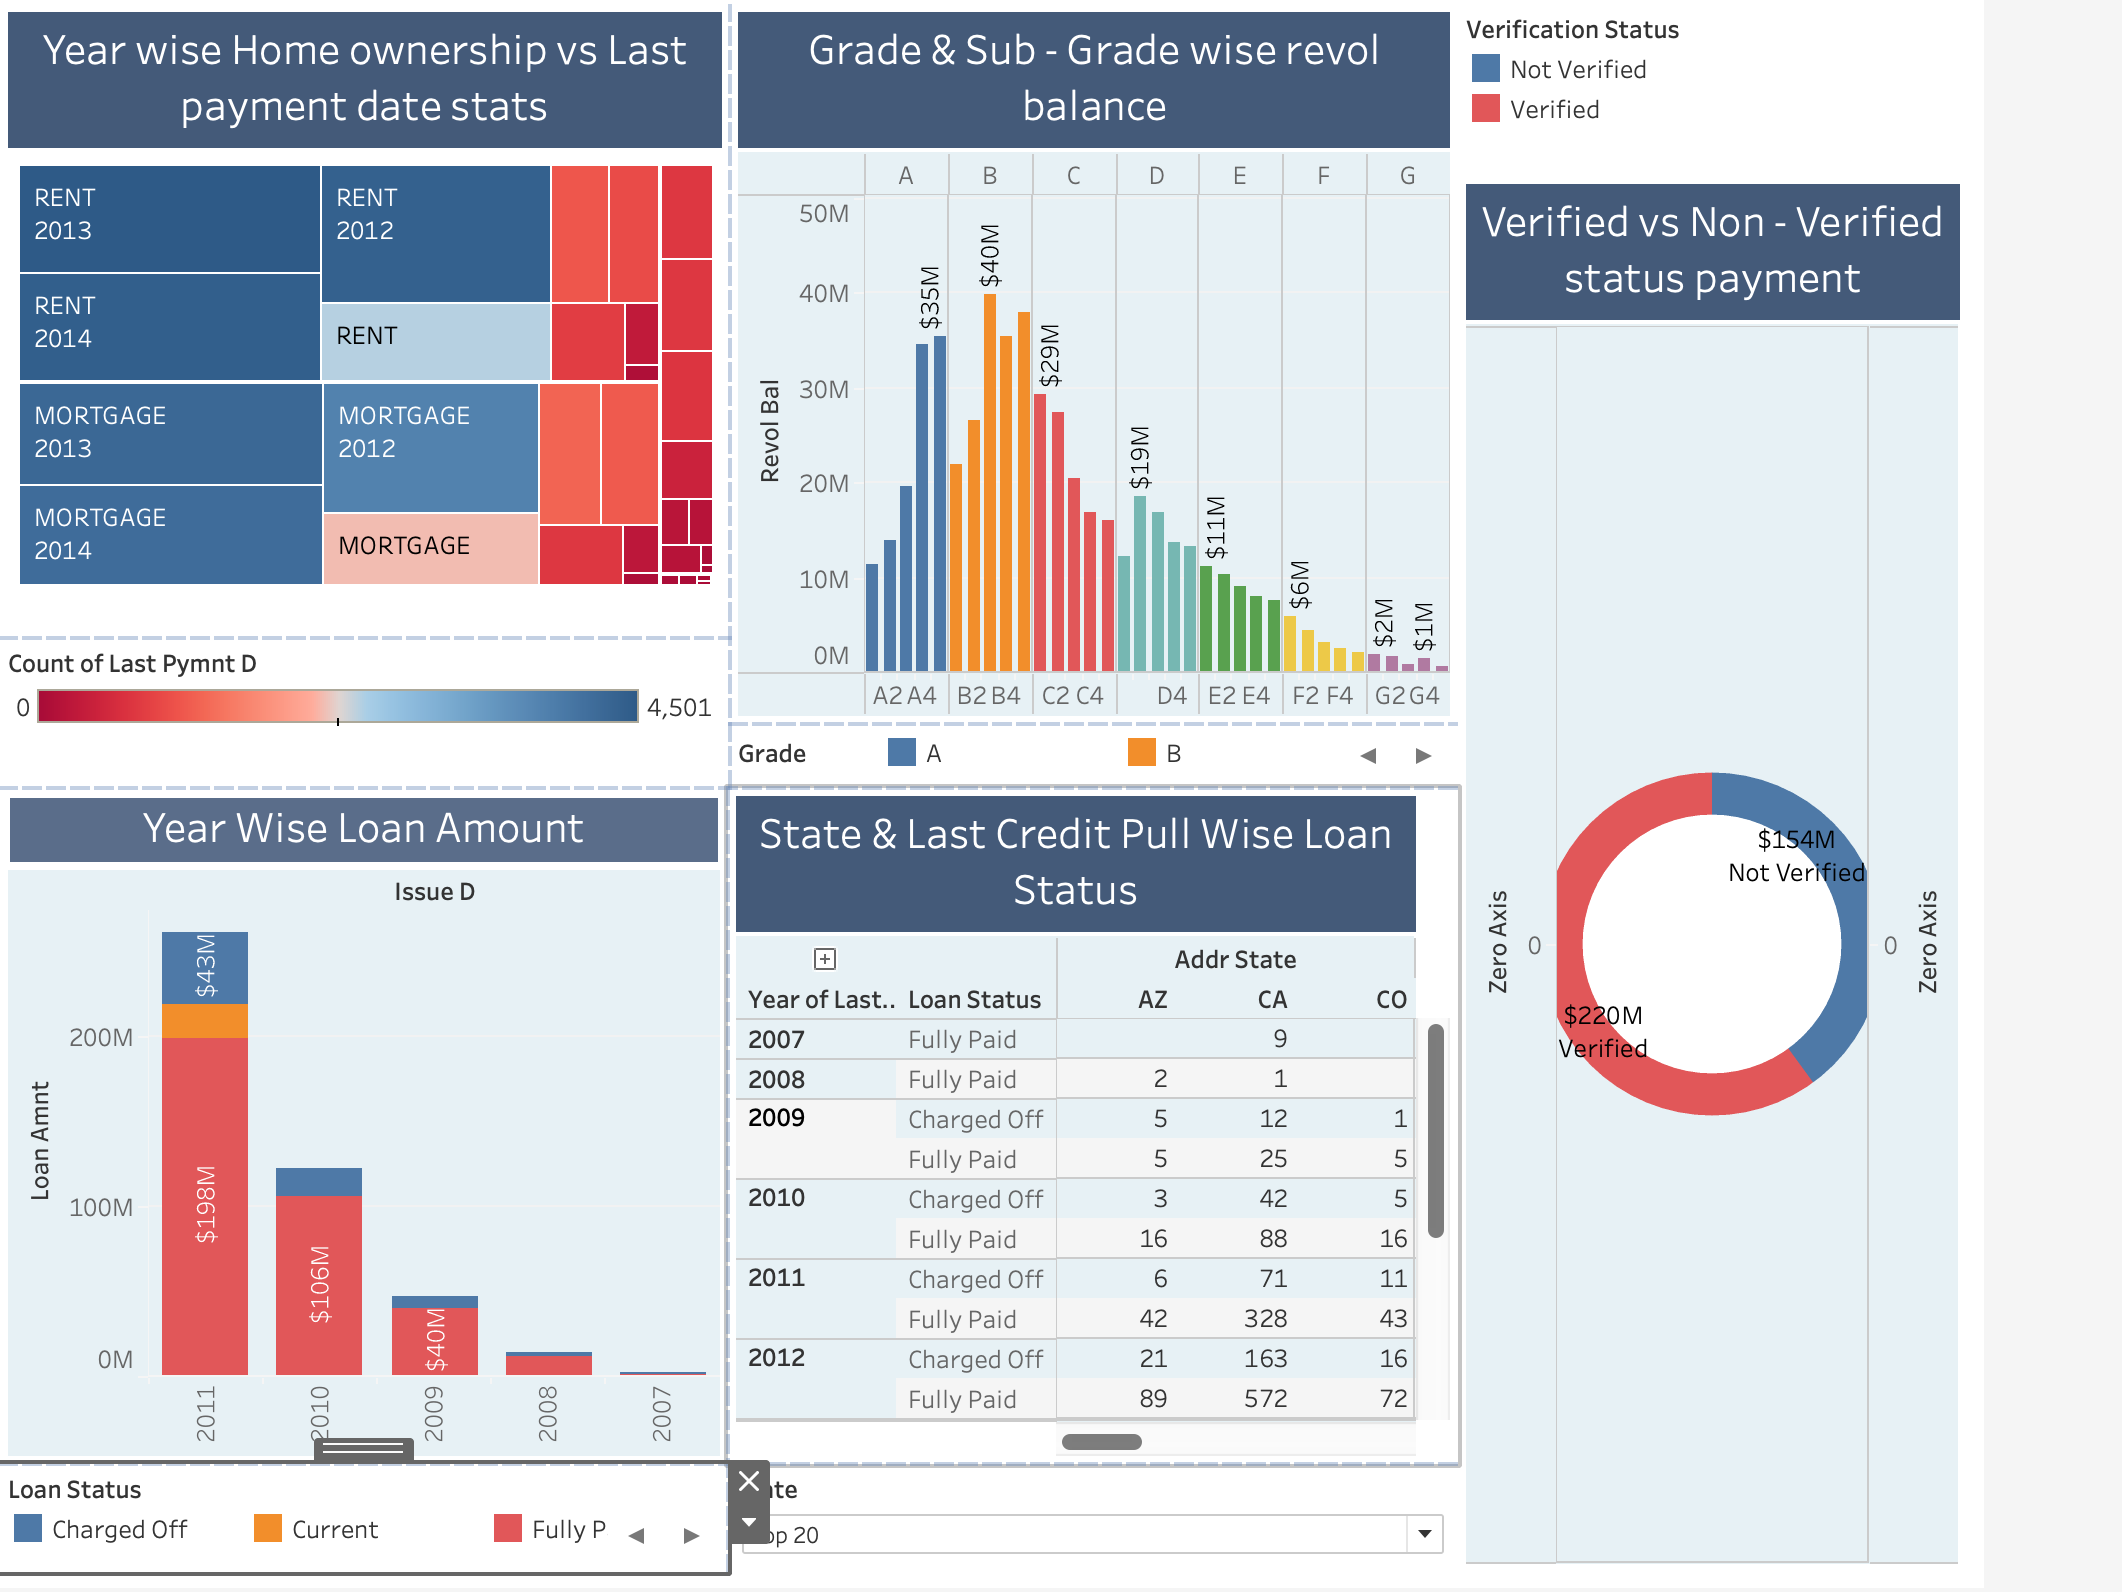

What the dashboard file says about the page in this screenshot:
{"tool":"tableau","page":{"name":"Dashboard 1","canvas":[1000,800],"ordinal":0},"visuals":[{"type":"worksheet","title":"KPI 5","mark":"Automatic","box":[8,8,364.5,317]},{"type":"worksheet","title":"KPI2","mark":"Automatic","rows":["revol_bal"],"cols":["grade","sub_grade"],"box":[372.5,8,364.5,360]},{"type":"legend","title":"KPI 3","param":"[federated.14shoip1ithi0l10mdrnj04ey6f8].[none:verification_status:nk]","box":[737,8,255,86]},{"type":"worksheet","title":"KPI 3","mark":"Pie","rows":["Calculation_6914643963906117635","Calculation_6914643963906117635"],"box":[737,94,255,698]},{"type":"legend","title":"KPI 5","param":"[federated.14shoip1ithi0l10mdrnj04ey6f8].[cnt:last_pymnt_d:qk]","box":[8,325,364.5,75]},{"type":"legend","title":"KPI2","param":"[federated.14shoip1ithi0l10mdrnj04ey6f8].[none:grade:nk]","box":[372.5,368,364.5,32]},{"type":"worksheet","title":"KPI1","mark":"Bar","rows":["loan_amnt"],"cols":["issue_d"],"box":[8,400,364.5,338]},{"type":"worksheet","title":"KPI 4","mark":"Automatic","rows":["last_credit_pull_d","loan_status"],"cols":["addr_state"],"box":[372.5,400,364.5,338]},{"type":"legend","title":"KPI1","param":"[federated.14shoip1ithi0l10mdrnj04ey6f8].[none:loan_status:nk]","box":[8,738,364.5,54]},{"type":"parameter","param":"[Parameters].[Parameter 1]","box":[372.5,738,364.5,54]}]}

Visuals, with their boxes in screenshot pixels (x1, y1, x2, y2):
"KPI 5" worksheet: (x1=10, y1=21, x2=725, y2=643)
"KPI2" worksheet: (x1=725, y1=21, x2=1440, y2=727)
"KPI 3" legend: (x1=1440, y1=21, x2=1941, y2=190)
"KPI 3" worksheet (Pie marks): (x1=1440, y1=190, x2=1941, y2=1559)
"KPI 5" legend: (x1=10, y1=643, x2=725, y2=790)
"KPI2" legend: (x1=725, y1=727, x2=1440, y2=790)
"KPI1" worksheet (Bar marks): (x1=10, y1=790, x2=725, y2=1453)
"KPI 4" worksheet: (x1=725, y1=790, x2=1440, y2=1453)
"KPI1" legend: (x1=10, y1=1453, x2=725, y2=1559)
parameter: (x1=725, y1=1453, x2=1440, y2=1559)
